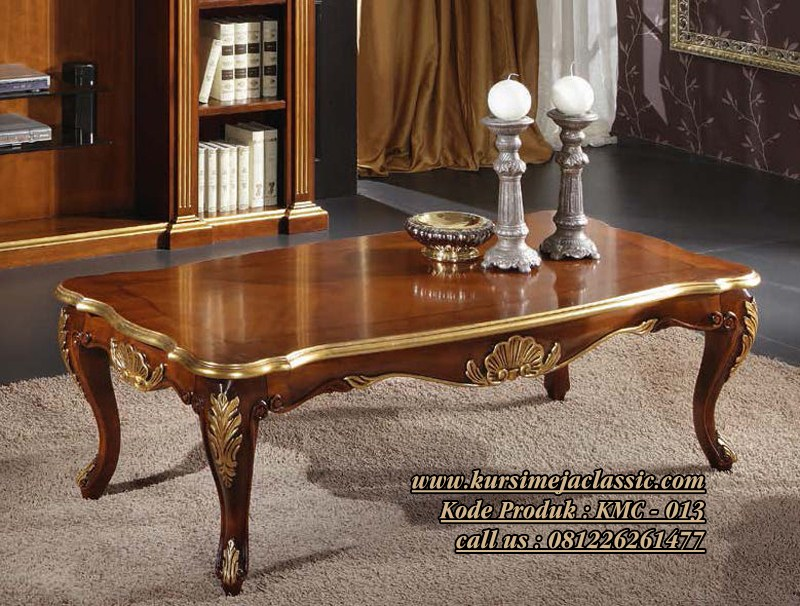Carving Table: (17, 204, 761, 533)
